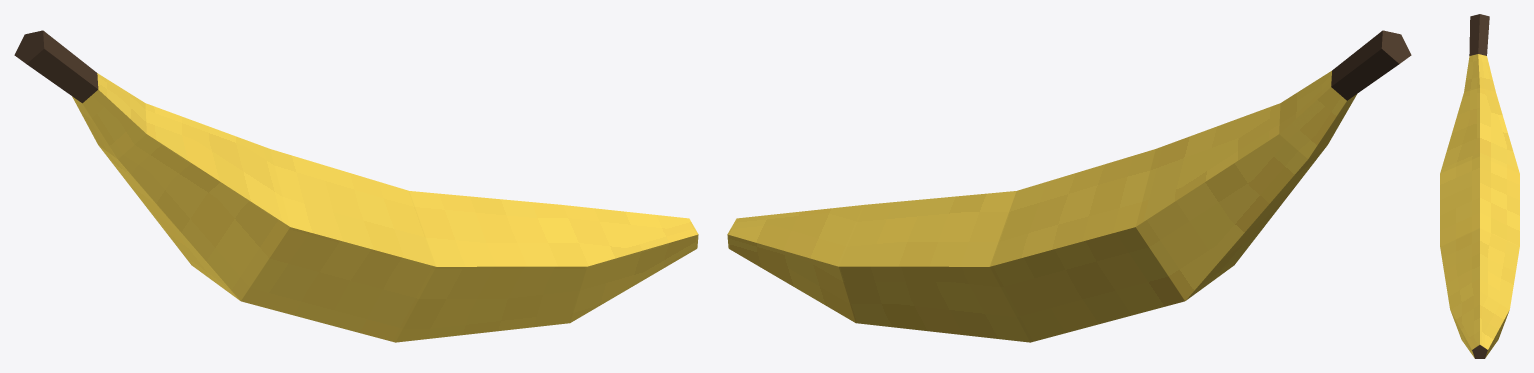
The model's file is Banana.fbx.
The picture shows the model from 3 angles, left to right: view 1: azimuth 30°, elevation 25°; view 2: azimuth 150°, elevation 25°; view 3: azimuth 270°, elevation 25°; orthographic projection. The views are drawn at different scales.
Visible parts, largest first — view 1: Banana; view 2: Banana; view 3: Banana.
Boxes of the visible parts, <box> form: Banana: <box>14,30,698,342</box>; Banana: <box>727,30,1411,342</box>; Banana: <box>1440,14,1519,358</box>.
Size of the model in its own units: 463 by 265 by 95.11.
1 material, 1 textured.
